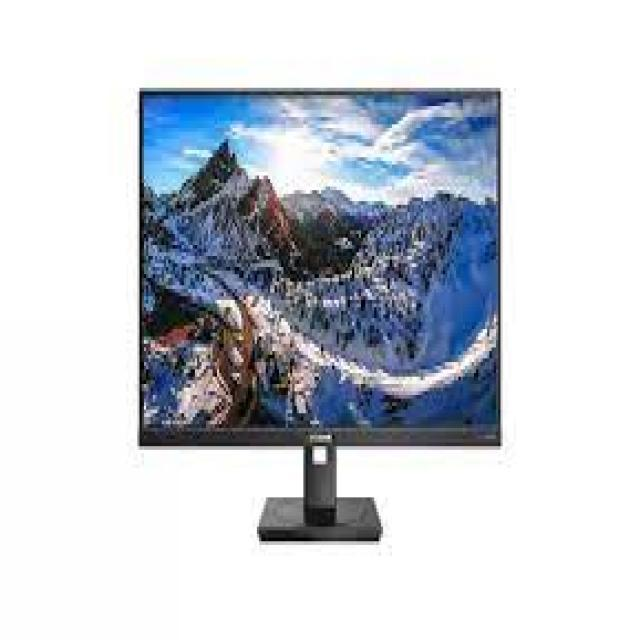monitor: (119, 80, 519, 572)
